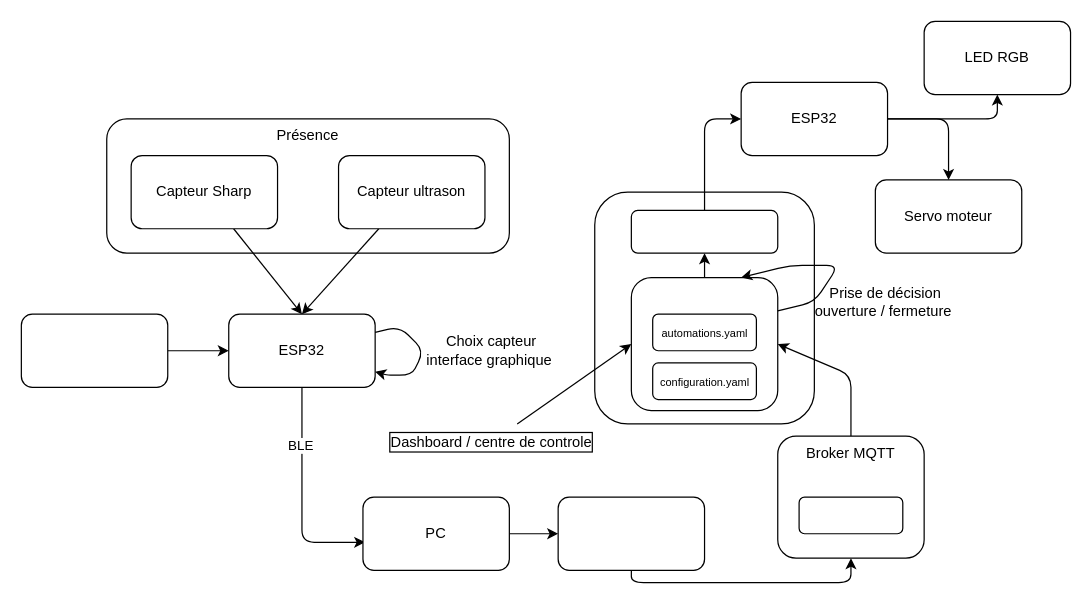
Some shapes in this 1092 by 614 pixel diagram are drawn without their labels. The shapes that lost their labels are listed below. From the top down, each one's box as (x1, y1, x2, y2) in pixels, then its label:
(630, 209, 778, 253): ESPHome
(20, 313, 168, 387): Potentiomètre (température)
(630, 276, 778, 411): Home assistant
(557, 496, 705, 570): Python BLE to MQTT
(798, 496, 903, 534): mosquitto.conf
